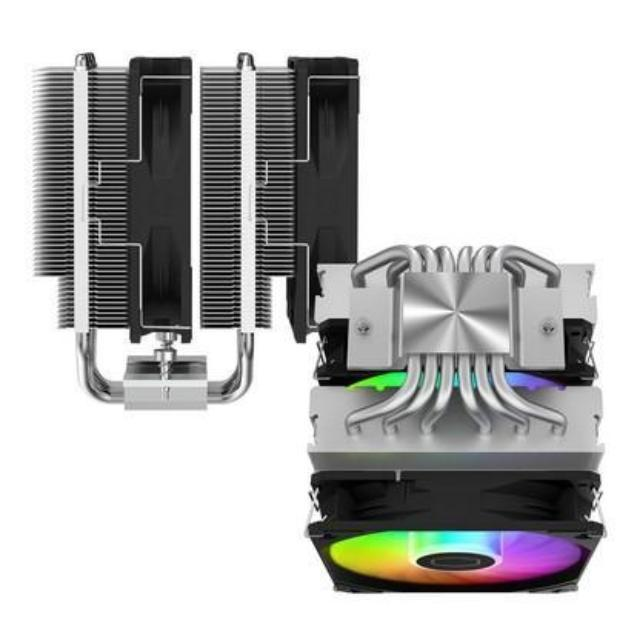CPU_Fan: (26, 50, 360, 410), (310, 238, 608, 606)
